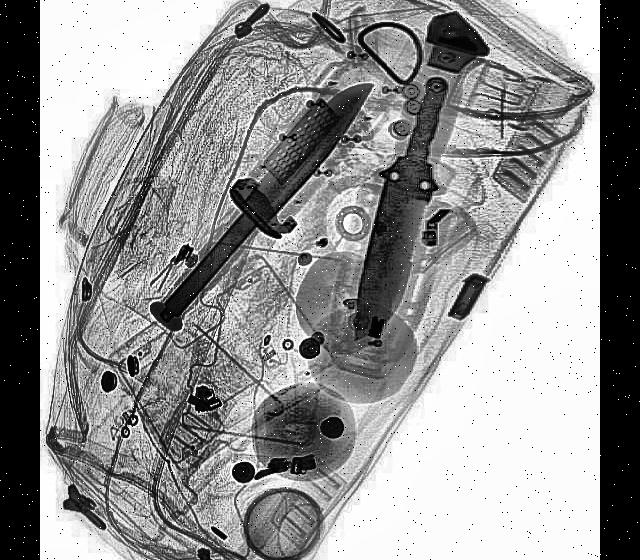Knife: (150, 59, 384, 331), (343, 66, 462, 352)
